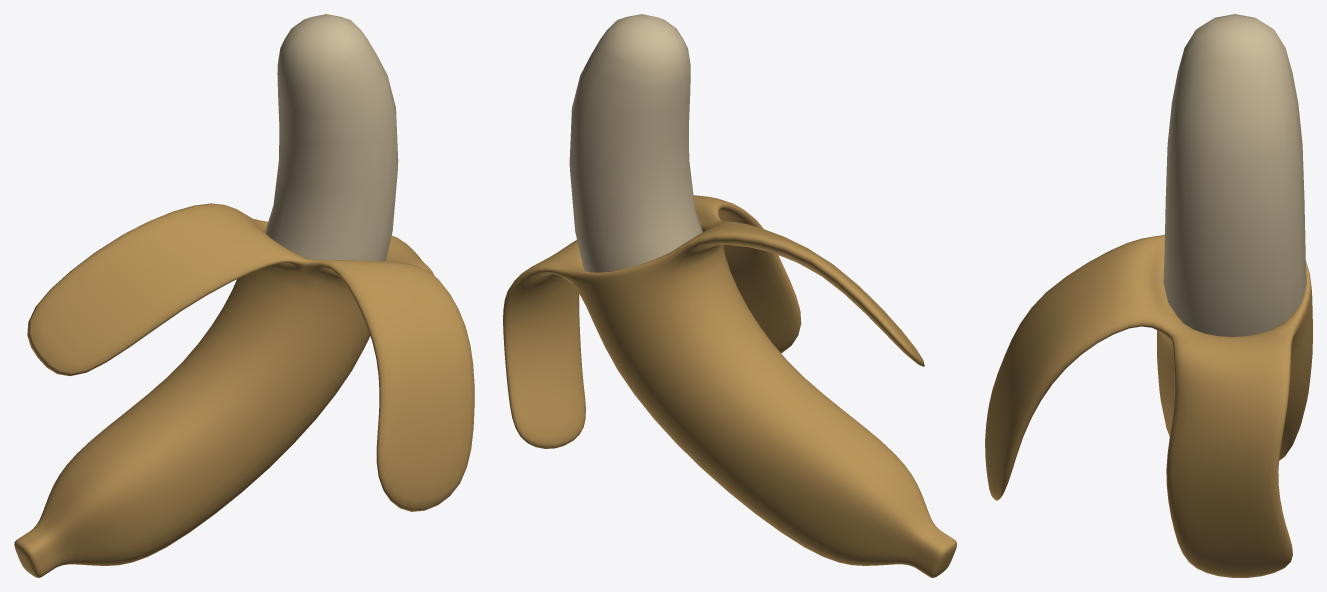
File: banana.gltf
3 views of the same model, side by side, from view 1: azimuth 30°, elevation 25°; view 2: azimuth 150°, elevation 25°; view 3: azimuth 270°, elevation 25° (orthographic). The views are drawn at different scales.
Parts seen in each view (by area): view 1: banana skin, interior banana; view 2: banana skin, interior banana; view 3: banana skin, interior banana.
Part boxes in pixels (left/top/right/bottom): banana skin: left=14, top=203, right=474, bottom=577; interior banana: left=266, top=14, right=398, bottom=261; banana skin: left=503, top=195, right=956, bottom=577; interior banana: left=569, top=14, right=702, bottom=272; banana skin: left=985, top=234, right=1312, bottom=577; interior banana: left=1163, top=14, right=1306, bottom=336.
Bounding box in the file's own units: 1.17 × 1.26 × 0.6729.
